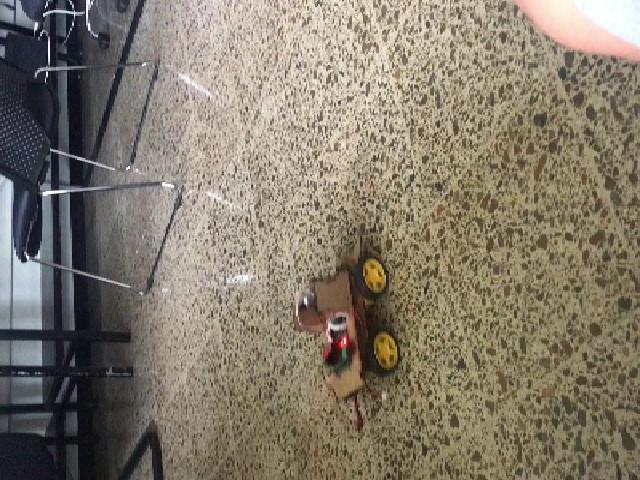Robot: (293, 234, 400, 402)
